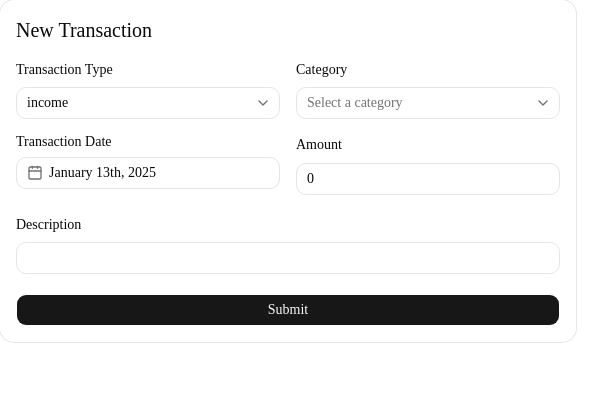
Test: TransactionForm › successful submission › shows the success message and resets the form
Step 1. Click the dropdown labelled "category" → [355, 103], box [296,87,560,119]
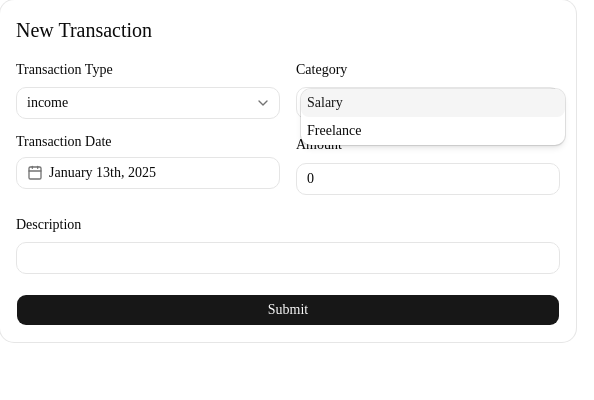
Step 2. Click the option "Salary" → [325, 103], box [301,89,565,117]
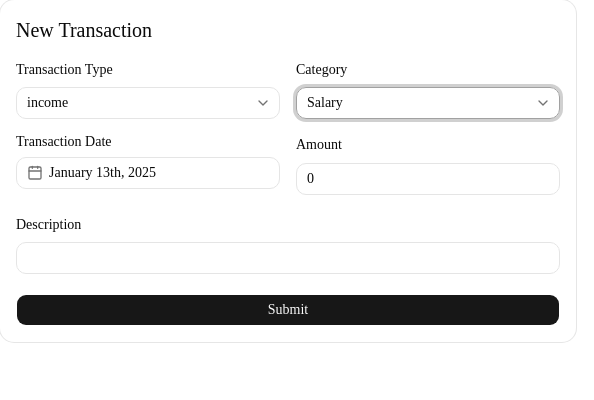
Step 3. Replace the text in the number field labelled "Amount" with "25.5" → [428, 178], box [296,162,560,194]
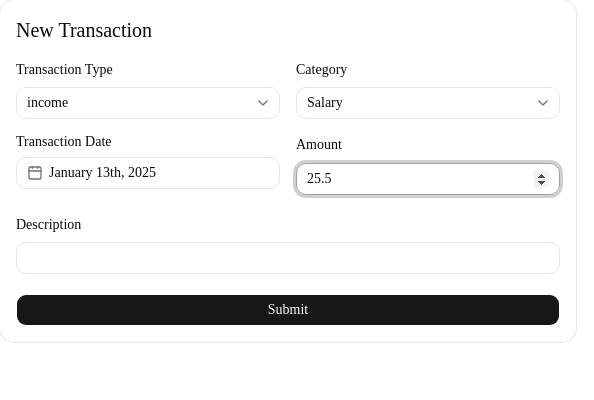
Step 4. Type "March pay" into the field labelled "Description" → [288, 258], box [16,242,560,274]
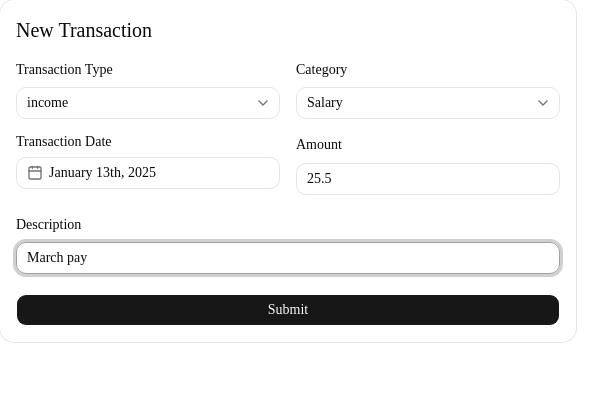
Step 5. Click the button "Submit" → [288, 310], box [16,294,560,326]
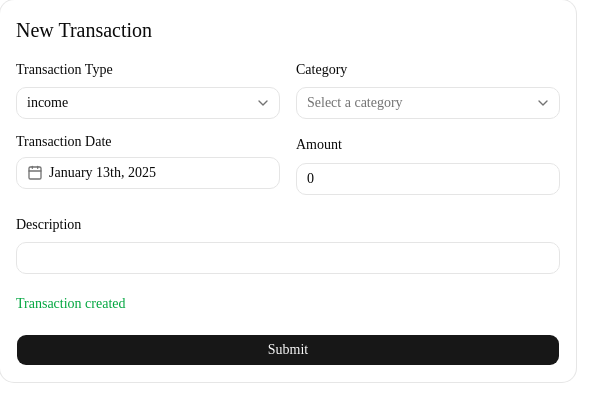
Now the text "Transaction created" is shown, box [16,296,126,311]
Now the field labelled "Description" is empty, box [16,242,560,274]
Now the number field labelled "Amount" holds "0", box [296,162,560,194]
